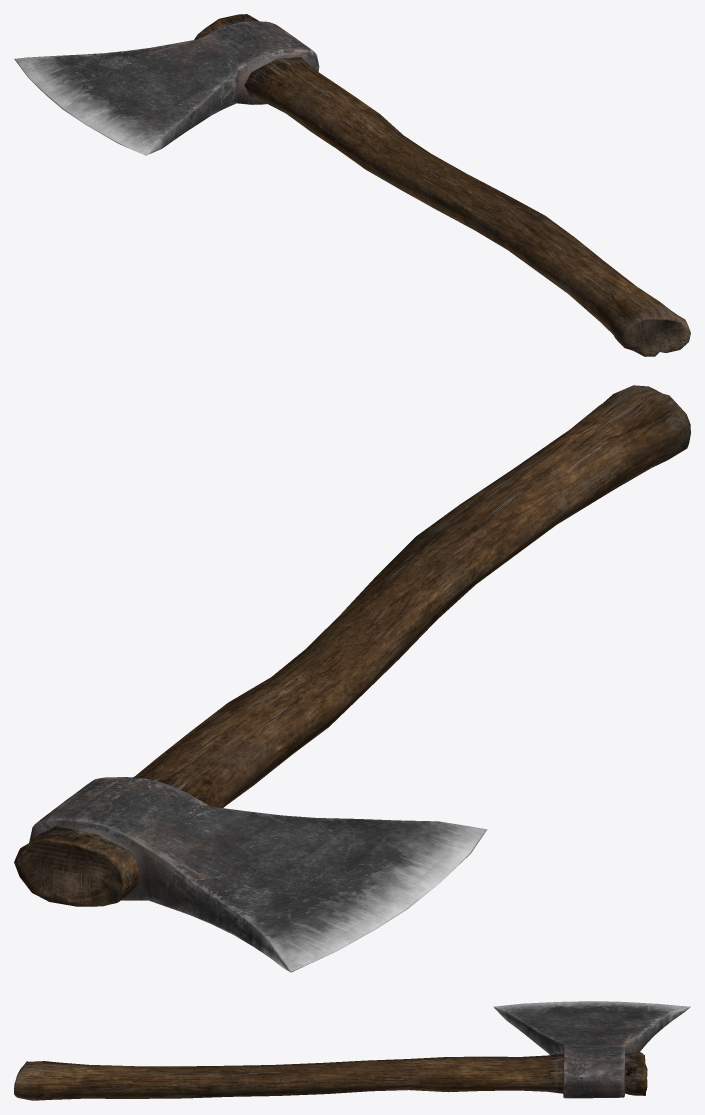
3 views of the same model, one above another, from view 1: azimuth 30°, elevation 25°; view 2: azimuth 150°, elevation 25°; view 3: azimuth 270°, elevation 25° (orthographic). The views are drawn at different scales.
Parts seen in each view (by area): view 1: WP_A_0700, WP_A_0700.001; view 2: WP_A_0700, WP_A_0700.001; view 3: WP_A_0700, WP_A_0700.001.
Part boxes in pixels (x1=…): WP_A_0700: x1=194, y1=14, x2=690, y2=356; WP_A_0700.001: x1=14, y1=20, x2=319, y2=155; WP_A_0700: x1=14, y1=385, x2=690, y2=906; WP_A_0700.001: x1=29, y1=777, x2=487, y2=972; WP_A_0700: x1=14, y1=1051, x2=647, y2=1100; WP_A_0700.001: x1=493, y1=1001, x2=690, y2=1098.
Size of the model in its own units: 26.19 by 5.11 by 83.69.
2 materials, 2 textured.
